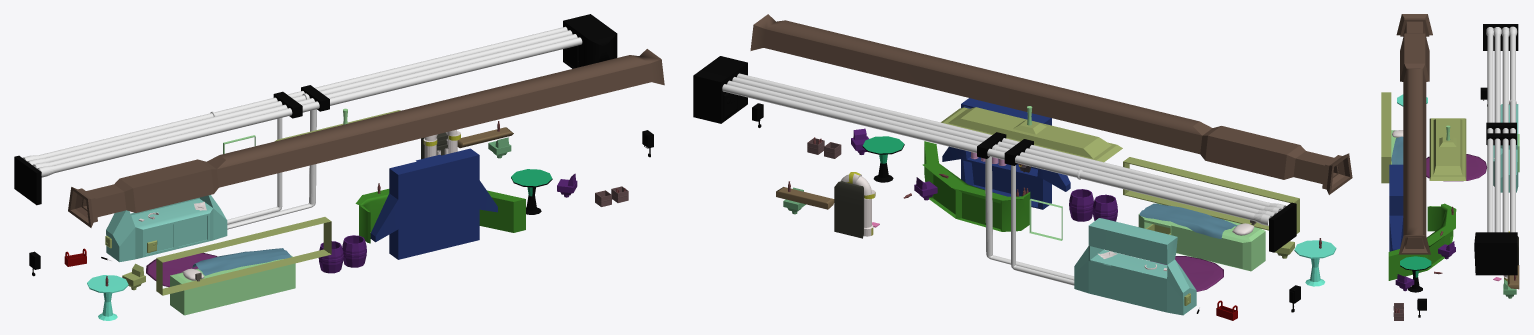
The model's file is Hallwayscetchtest.fbx.
3 renders of one model, left to right at view 1: azimuth 30°, elevation 25°; view 2: azimuth 150°, elevation 25°; view 3: azimuth 270°, elevation 25°, orthographic. The views are drawn at different scales.
Parts seen in each view (by area): view 1: pCube43, pCube4, pCube3, pCylinder4, pCube29, pCylinder2, pCube54, pCylinder3, pCylinder1, pCube19, pCube5, pPlane5 (+10 smaller); view 2: pCube43, pCube3, pCylinder1, pCube7, pCube19, pCube4, pCube29, pCylinder3, pCylinder2, pCylinder4, pCube5, pCube54 (+12 smaller); view 3: pCube43, pCube7, pCube5, pCube19, pCylinder3, pCylinder2, pCylinder4, pCube4, pCylinder1, pCube54, pCube3, pCylinder43 (+12 smaller).
Boxes of the visible parts, <box> form: pCube43: <box>68,49,664,227</box>; pCube4: <box>370,148,497,259</box>; pCube3: <box>106,195,227,262</box>; pCylinder4: <box>37,37,582,177</box>; pCube29: <box>170,255,295,315</box>; pCylinder2: <box>27,30,572,164</box>; pCube54: <box>156,217,331,295</box>; pCylinder3: <box>32,34,577,171</box>; pCylinder1: <box>23,26,567,163</box>; pCube19: <box>355,189,525,243</box>; pCube5: <box>563,14,617,68</box>; pPlane5: <box>192,248,291,275</box>; pCube43: <box>750,14,1352,194</box>; pCube3: <box>1074,218,1196,315</box>; pCylinder1: <box>722,84,1272,226</box>; pCube7: <box>941,107,1122,162</box>; pCube19: <box>922,141,1030,231</box>; pCube4: <box>942,98,1070,209</box>; pCube29: <box>1138,203,1265,271</box>; pCylinder3: <box>732,77,1281,212</box>; pCylinder2: <box>727,80,1276,218</box>; pCylinder4: <box>737,73,1286,211</box>; pCube5: <box>693,56,747,123</box>; pCube54: <box>1123,157,1299,233</box>; pCube43: <box>1396,14,1432,254</box>; pCube7: <box>1429,118,1466,180</box>; pCube5: <box>1474,232,1517,275</box>; pCube19: <box>1388,203,1456,280</box>; pCylinder3: <box>1493,27,1501,232</box>; pCylinder2: <box>1501,27,1509,232</box>; pCylinder4: <box>1486,27,1493,232</box>; pCube4: <box>1389,164,1403,251</box>; pCylinder1: <box>1509,26,1517,232</box>; pCube54: <box>1381,92,1391,183</box>; pCube3: <box>1493,104,1518,192</box>; pCylinder43: <box>1400,256,1431,292</box>.
Size of the model in its own units: 60.31 by 13.32 by 15.88.
